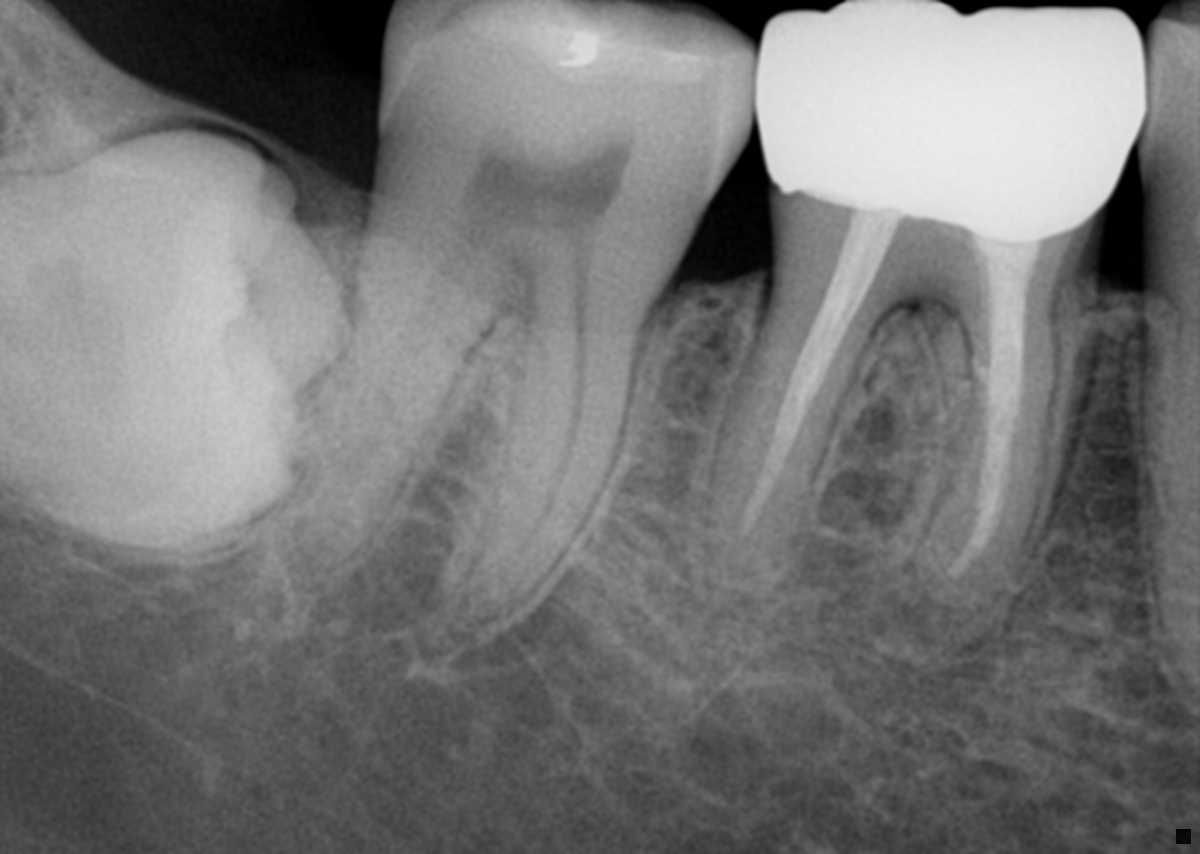Distal Canal: (320, 233, 478, 522)
Distal Root: (278, 190, 515, 589), (694, 266, 901, 589)
Main Root: (1138, 291, 1200, 702)
Mesial Canal: (504, 307, 586, 574)
Mesial Root: (450, 292, 653, 650), (907, 283, 1072, 617)
Root Canal Filling: (734, 277, 872, 554), (945, 298, 1024, 588)
